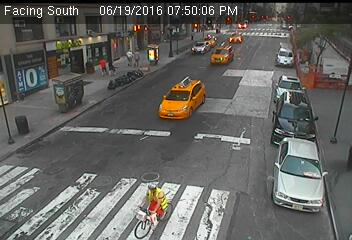neg: (128, 177, 172, 235), (228, 28, 242, 46)
pos: (95, 55, 108, 72), (130, 46, 143, 63), (123, 47, 135, 63), (104, 59, 115, 73)
